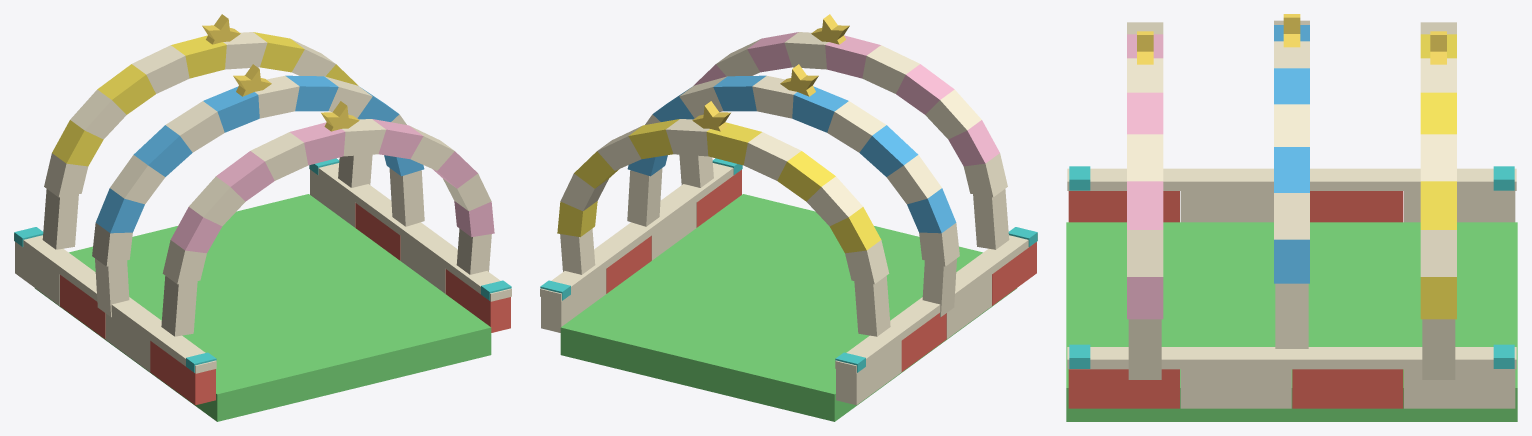
File: carnival_tunnel_6x6.glb
3 renders of one model, left to right at view 1: azimuth 30°, elevation 25°; view 2: azimuth 150°, elevation 25°; view 3: azimuth 270°, elevation 25°, orthographic. The views are drawn at different scales.
Visible parts, largest first — view 1: Mesh_Funhouse_Arches, Mesh_Floor.008, Mesh_Wall_L.010, Mesh_Wall_R.010; view 2: Mesh_Funhouse_Arches, Mesh_Floor.008, Mesh_Wall_L.010, Mesh_Wall_R.010; view 3: Mesh_Floor.008, Mesh_Funhouse_Arches, Mesh_Wall_R.010, Mesh_Wall_L.010.
Boxes of the visible parts, x1=… form: Mesh_Funhouse_Arches: x1=42, y1=14, x2=494, y2=336; Mesh_Floor.008: x1=35, y1=194, x2=491, y2=421; Mesh_Wall_L.010: x1=14, y1=227, x2=216, y2=405; Mesh_Wall_R.010: x1=309, y1=158, x2=511, y2=332; Mesh_Funhouse_Arches: x1=557, y1=14, x2=1009, y2=336; Mesh_Floor.008: x1=560, y1=194, x2=1016, y2=421; Mesh_Wall_L.010: x1=835, y1=227, x2=1037, y2=405; Mesh_Wall_R.010: x1=540, y1=158, x2=742, y2=332; Mesh_Floor.008: x1=1066, y1=222, x2=1517, y2=421; Mesh_Funhouse_Arches: x1=1127, y1=14, x2=1456, y2=379; Mesh_Wall_R.010: x1=1067, y1=344, x2=1516, y2=408; Mesh_Wall_L.010: x1=1067, y1=166, x2=1516, y2=222.
Size of what is drawn, in the model's own units: 6.23 by 4.66 by 6.
